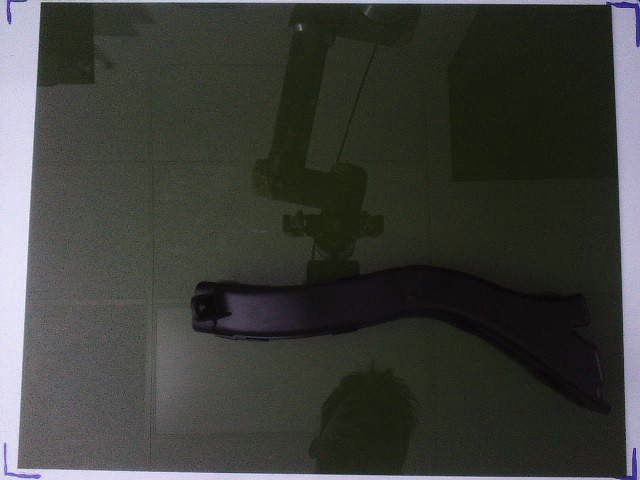887_B-Top: (192, 266, 610, 411)
